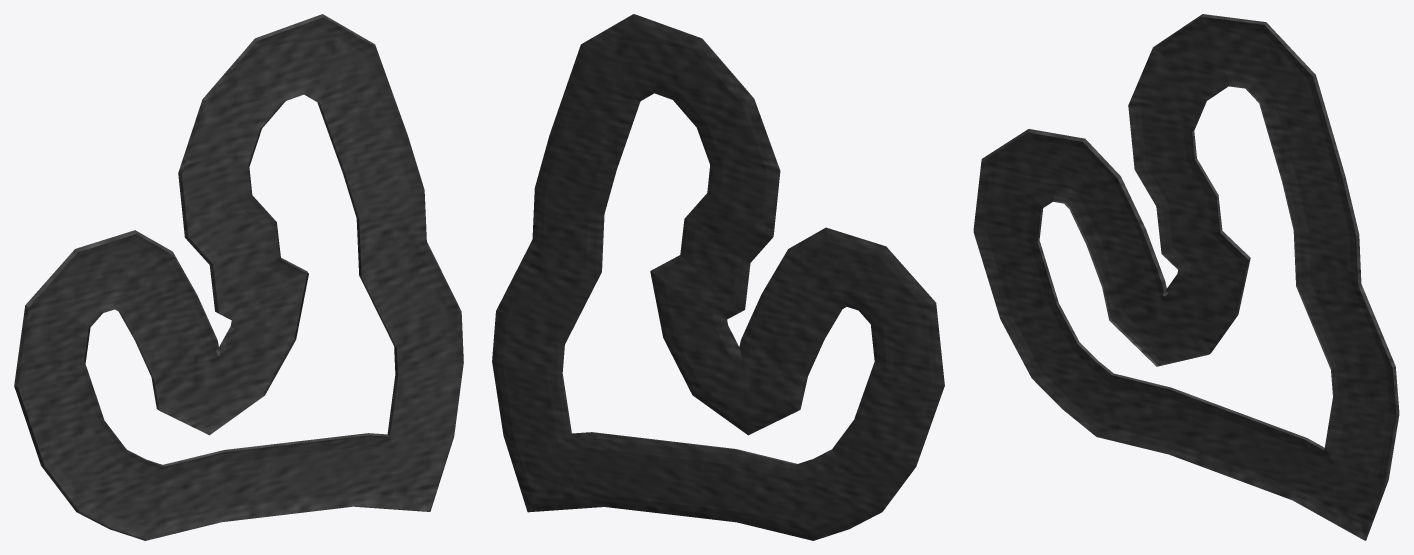
File: roadwaytest1_wtf.obj
3 renders of one model, left to right at view 1: azimuth 30°, elevation 25°; view 2: azimuth 150°, elevation 25°; view 3: azimuth 330°, elevation 25°, orthographic. The views are drawn at different scales.
Parts seen in each view (by area): view 1: group2; view 2: group2; view 3: group2.
Part boxes in pixels (left/top/right/bottom): group2: left=14, top=14, right=463, bottom=540; group2: left=492, top=14, right=944, bottom=540; group2: left=973, top=14, right=1399, bottom=540.
Size of the model in its own units: 595 by 660 by 12.3.
